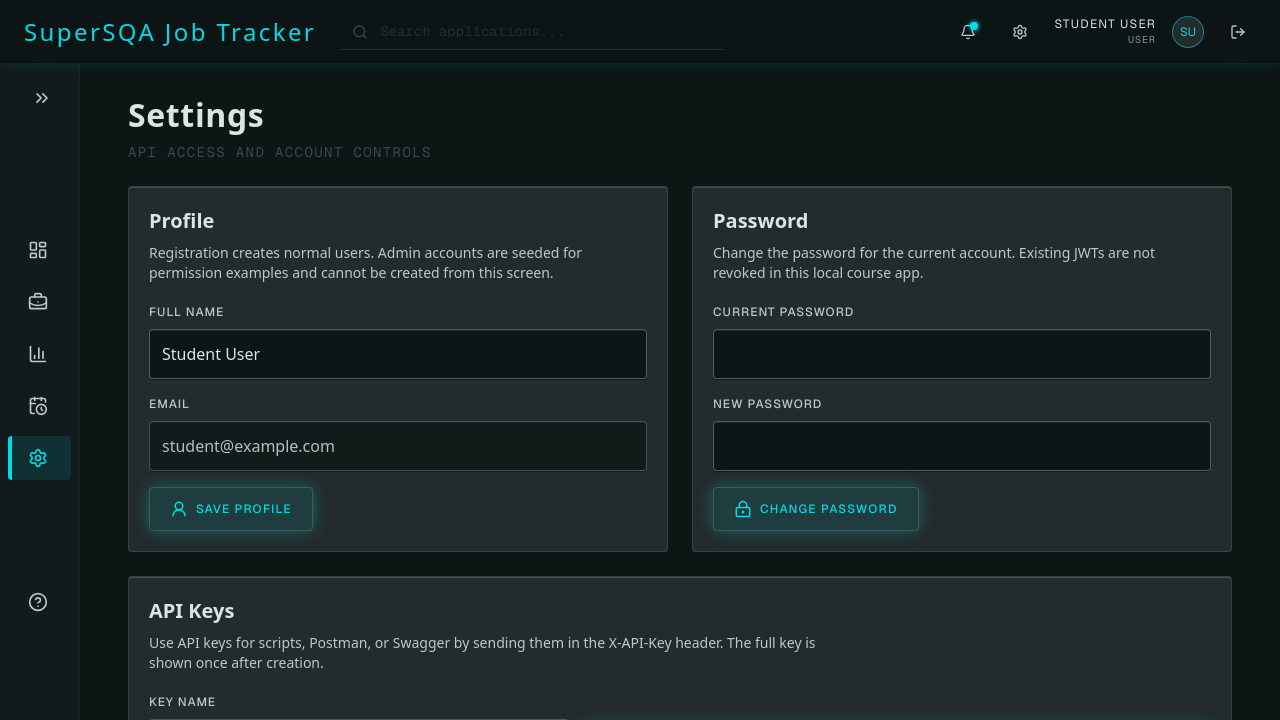
Scenario: ApiKeysPanel › changes the current user's password
This screenshot has width=1280, height=720.
Check: the heading "Settings" is shown, box left=128, top=93, right=264, bottom=136
Step 1. Type "Password123!" into the password field labelled "Current Password" → (962, 354), box left=713, top=329, right=1211, bottom=379
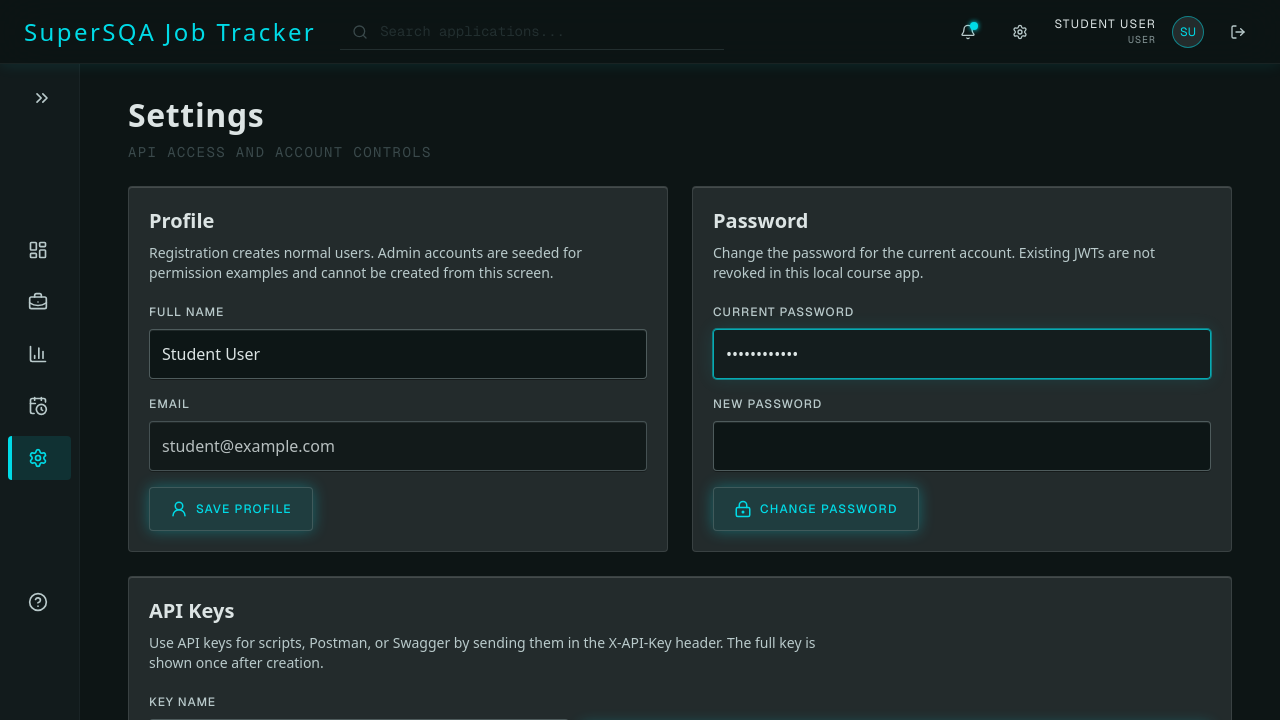
Step 2. Type "NewPassword123!" into the password field labelled "New Password" → (962, 446), box left=713, top=421, right=1211, bottom=471
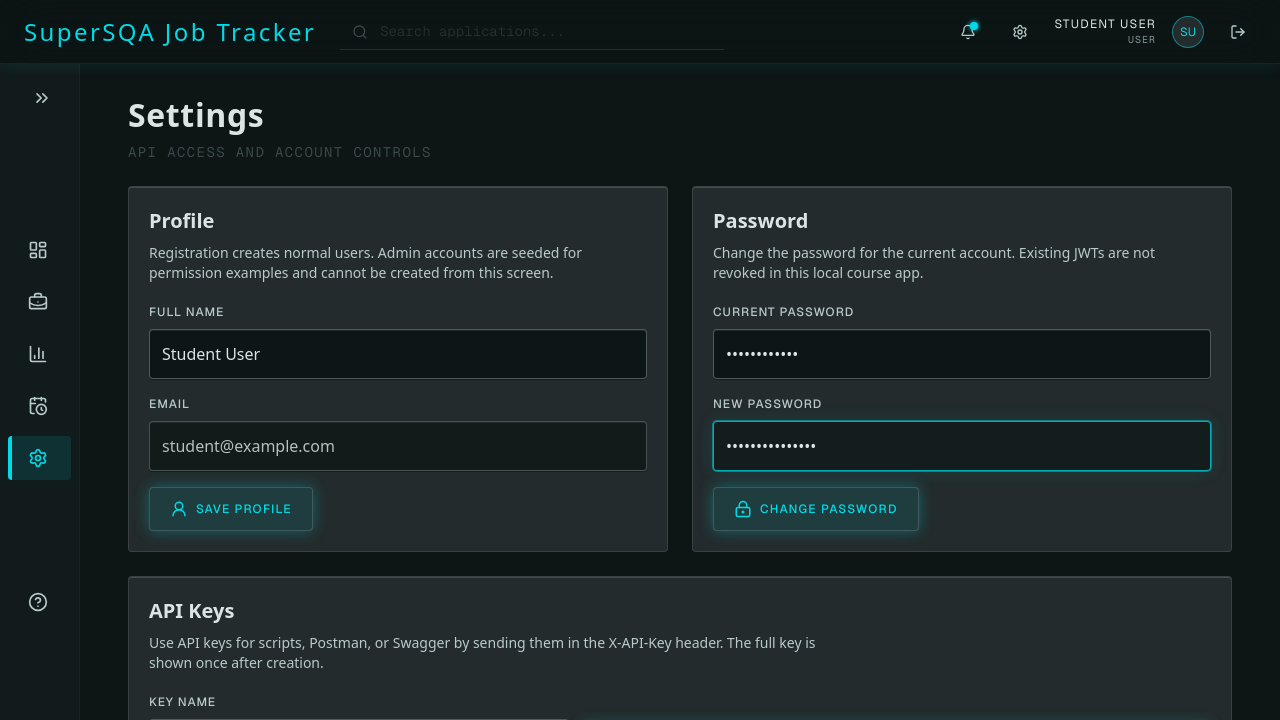
Step 3. Click the button "Change Password" → (816, 509), box left=713, top=487, right=919, bottom=531
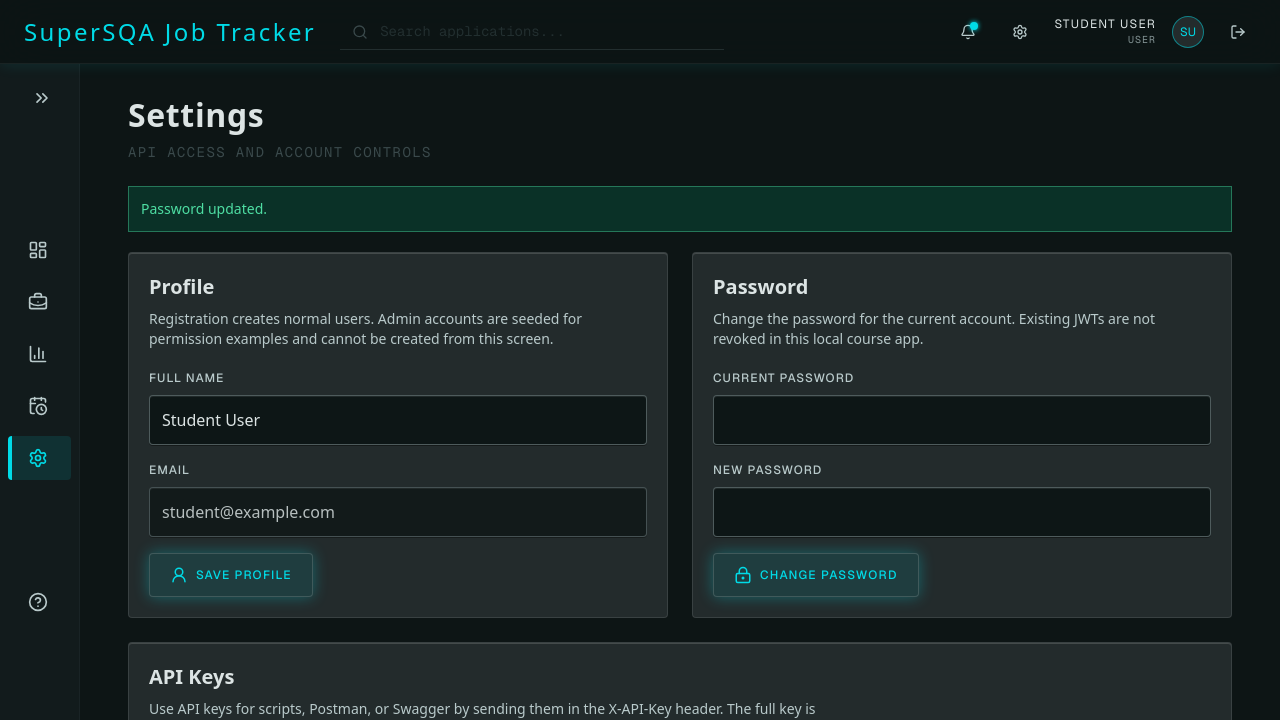
Check: the text "Password updated." is shown, box left=128, top=186, right=1232, bottom=232
